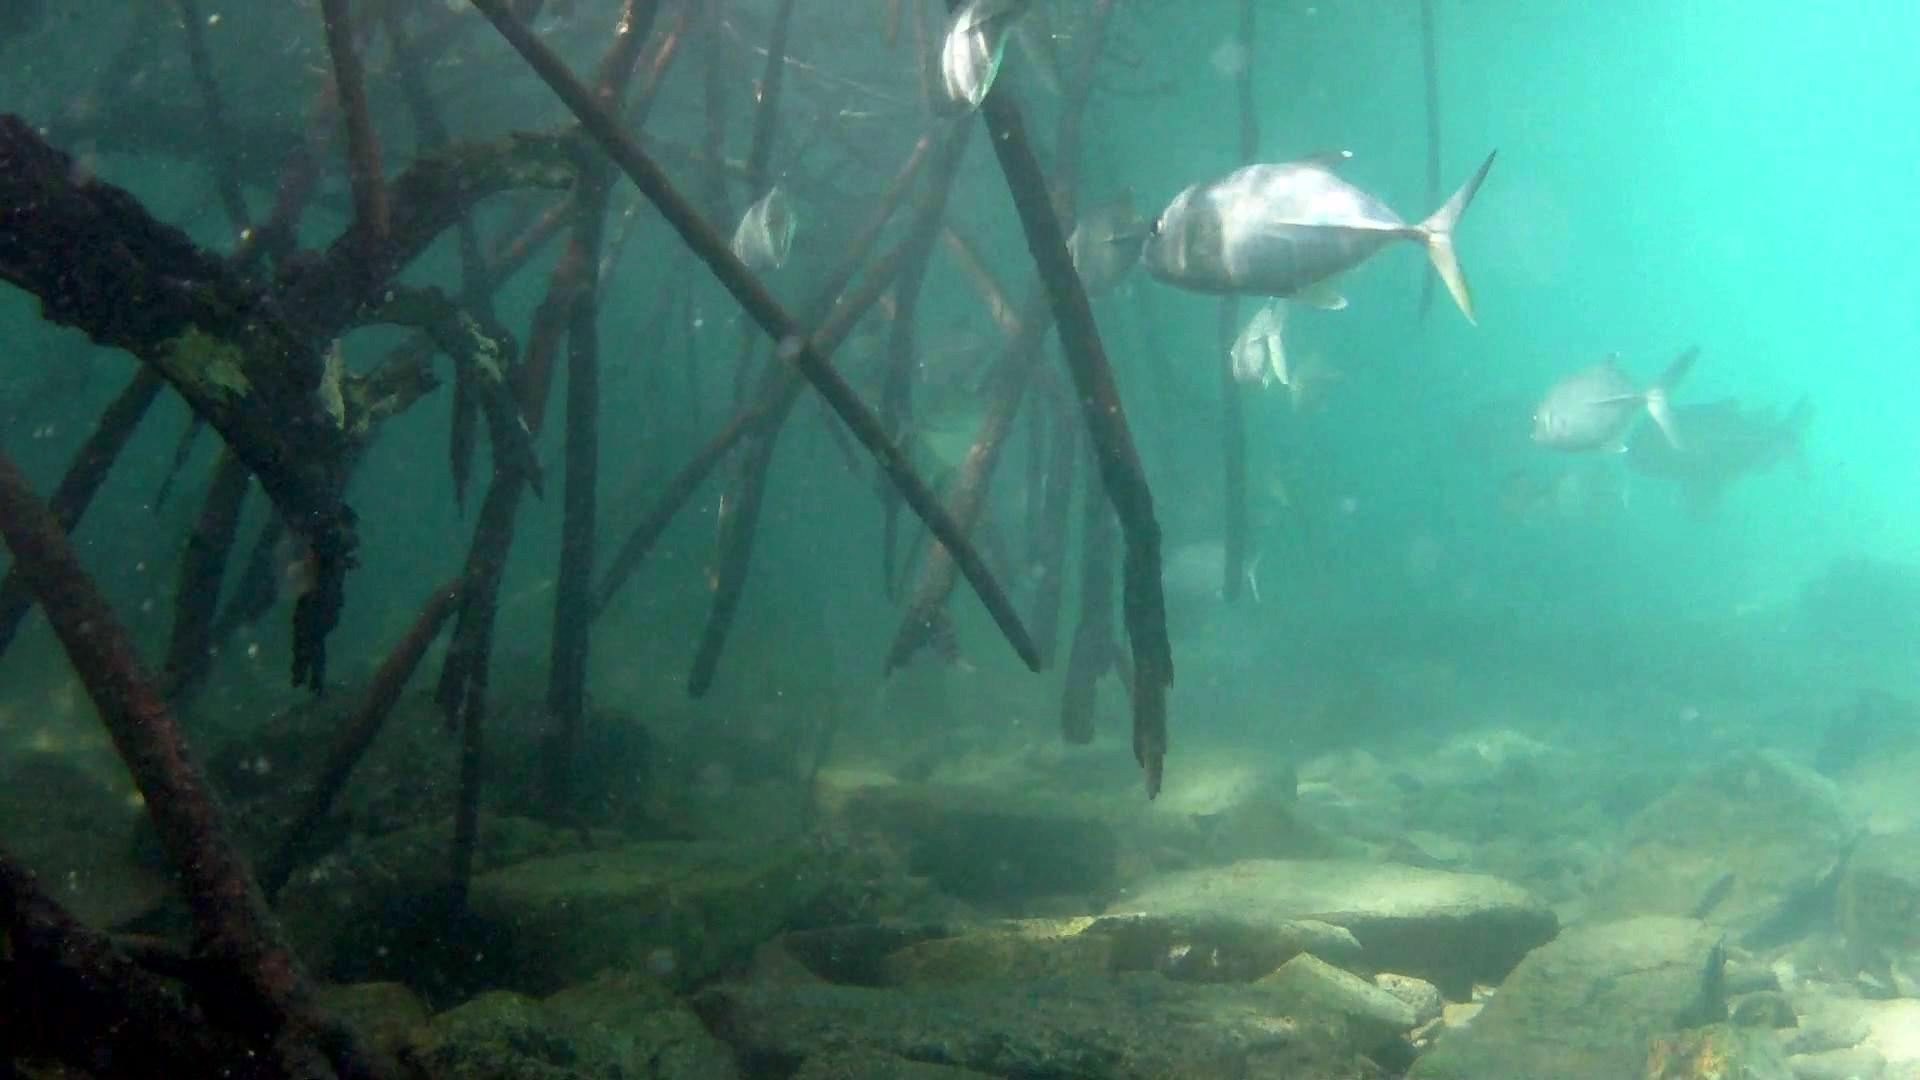caranx: (1126, 133, 1516, 334)
